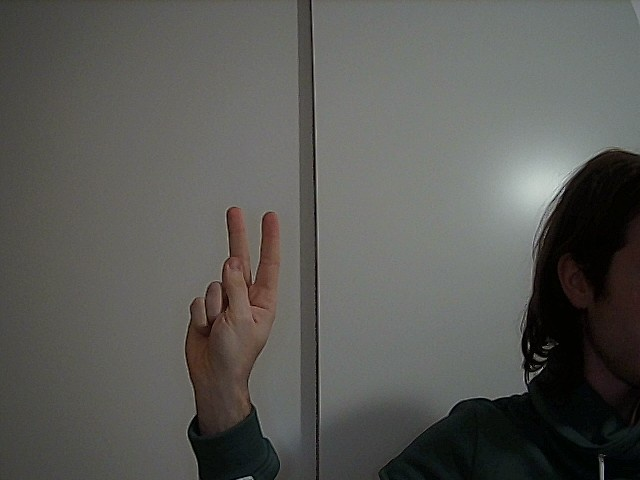k: (168, 192, 298, 370)
